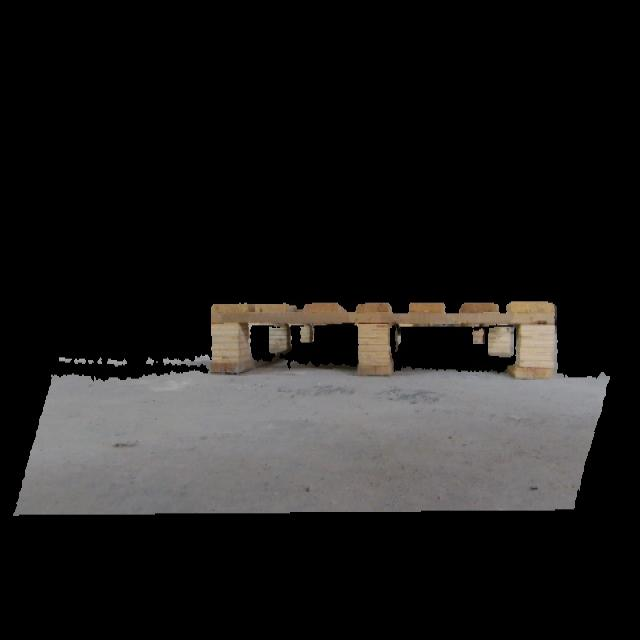block: (355, 309, 392, 381), (208, 304, 243, 374), (521, 316, 558, 380), (264, 311, 286, 354), (489, 327, 511, 362), (297, 318, 314, 344), (470, 327, 487, 347)
front: (204, 299, 558, 384)
